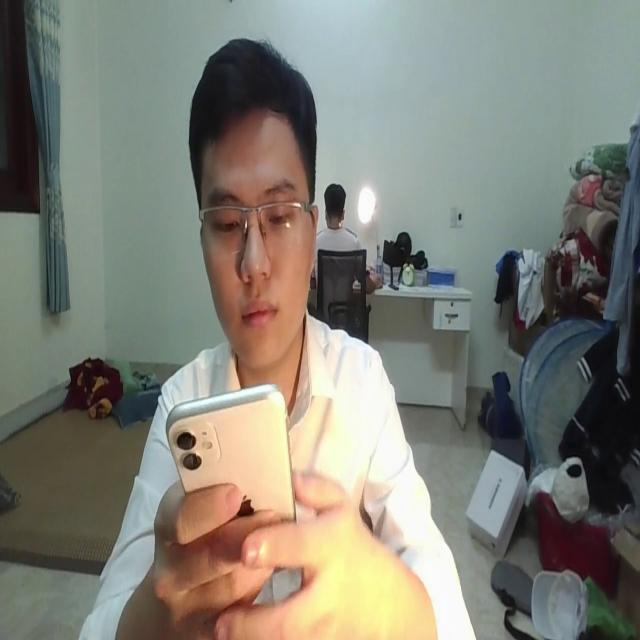phone: (159, 376, 303, 536)
student: (79, 31, 480, 640)
